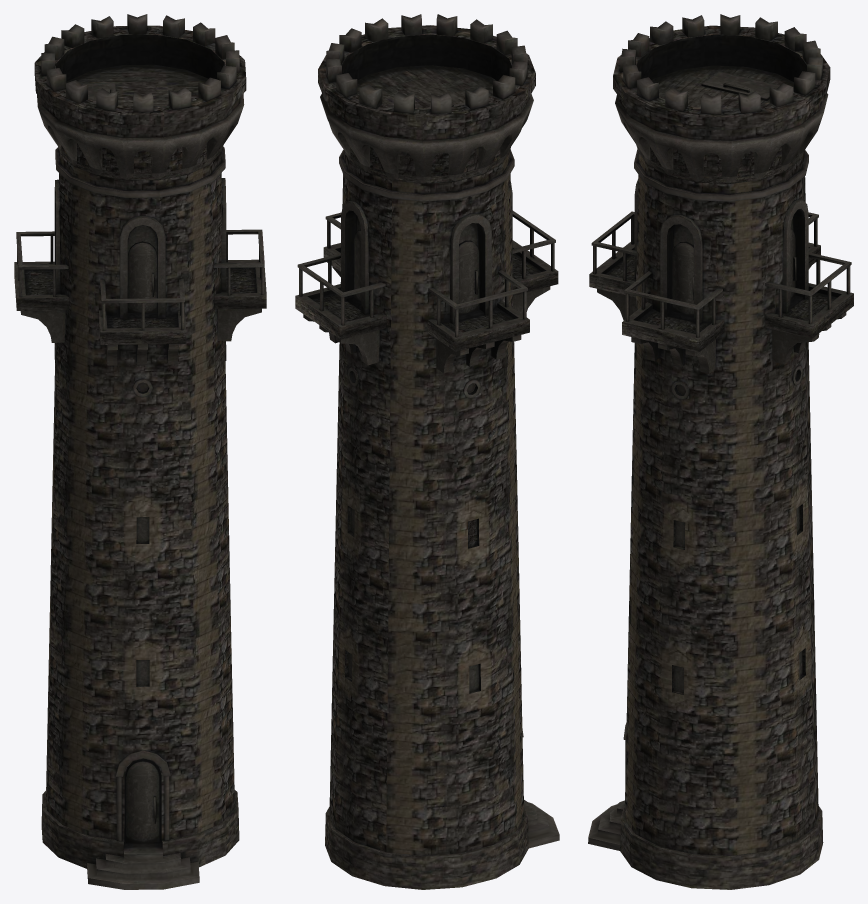
File: tower.obj
3 renders of one model, left to right at view 1: azimuth 30°, elevation 25°; view 2: azimuth 150°, elevation 25°; view 3: azimuth 270°, elevation 25°, orthographic.
Parts seen in each view (by area): view 1: KH_TowerHigh.003_0; view 2: KH_TowerHigh.003_0; view 3: KH_TowerHigh.003_0.
Part boxes in pixels (left/top/right/bottom): KH_TowerHigh.003_0: left=14, top=14, right=266, bottom=889; KH_TowerHigh.003_0: left=295, top=14, right=559, bottom=889; KH_TowerHigh.003_0: left=588, top=14, right=853, bottom=889.
Size of the model in its own units: 7.29 by 24.03 by 7.33.
